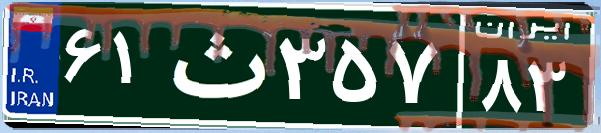1: (110, 28, 158, 105)
3: (273, 28, 330, 110), (525, 38, 570, 115)
5: (330, 28, 385, 110)
6: (57, 26, 110, 107)
7: (385, 28, 445, 110)
8: (475, 38, 525, 113)
ث: (158, 15, 273, 115)
